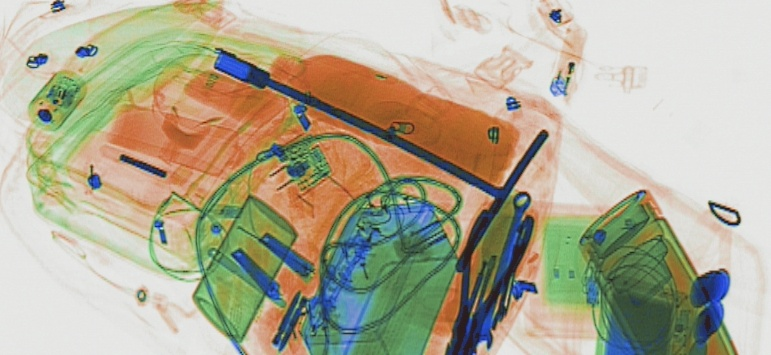banshou: (468, 191, 530, 352)
drinkbottle: (266, 50, 519, 193)
glassbottle: (576, 187, 738, 353), (190, 191, 298, 342)
lighter: (548, 22, 589, 98)
qianzi: (442, 208, 535, 351)
smallelectronicequipment: (595, 276, 700, 353)
